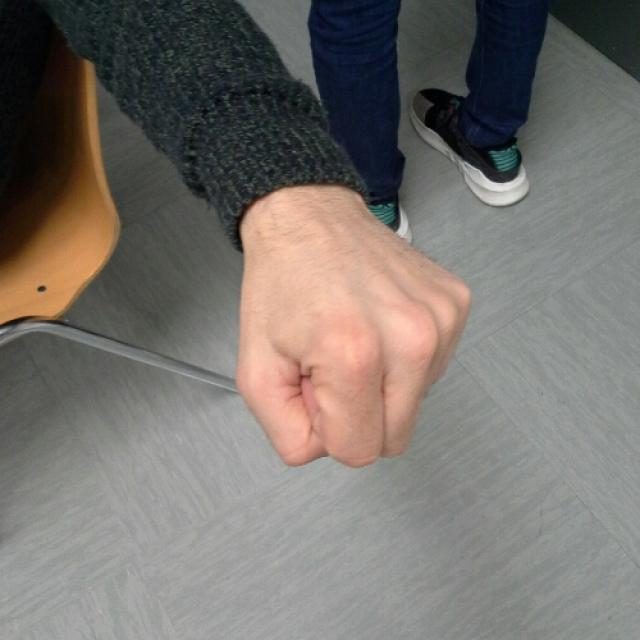rock: (234, 240, 478, 470)
